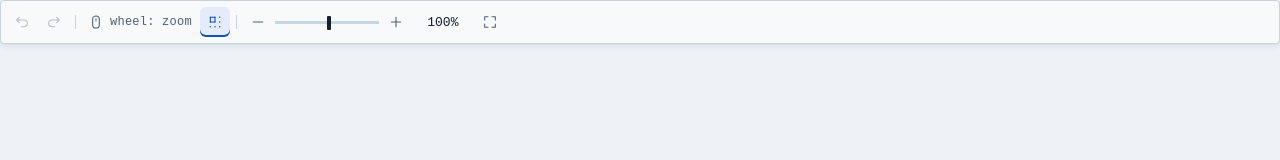
typing a zoom › opens on the current zoom, selected, so typing replaces it
Click the button "100%".
click(443, 22)  # box [413, 7, 473, 37]
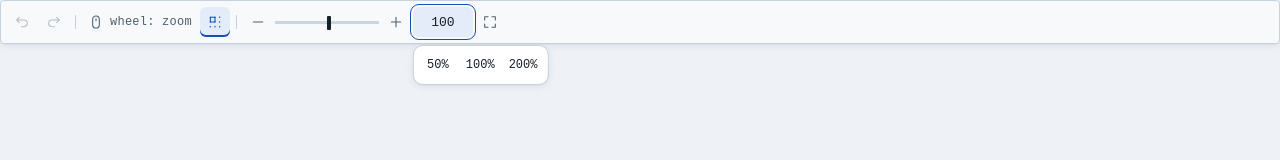
Expected: the field with test id "zoom-input" holds "100", [413, 7, 473, 37]
